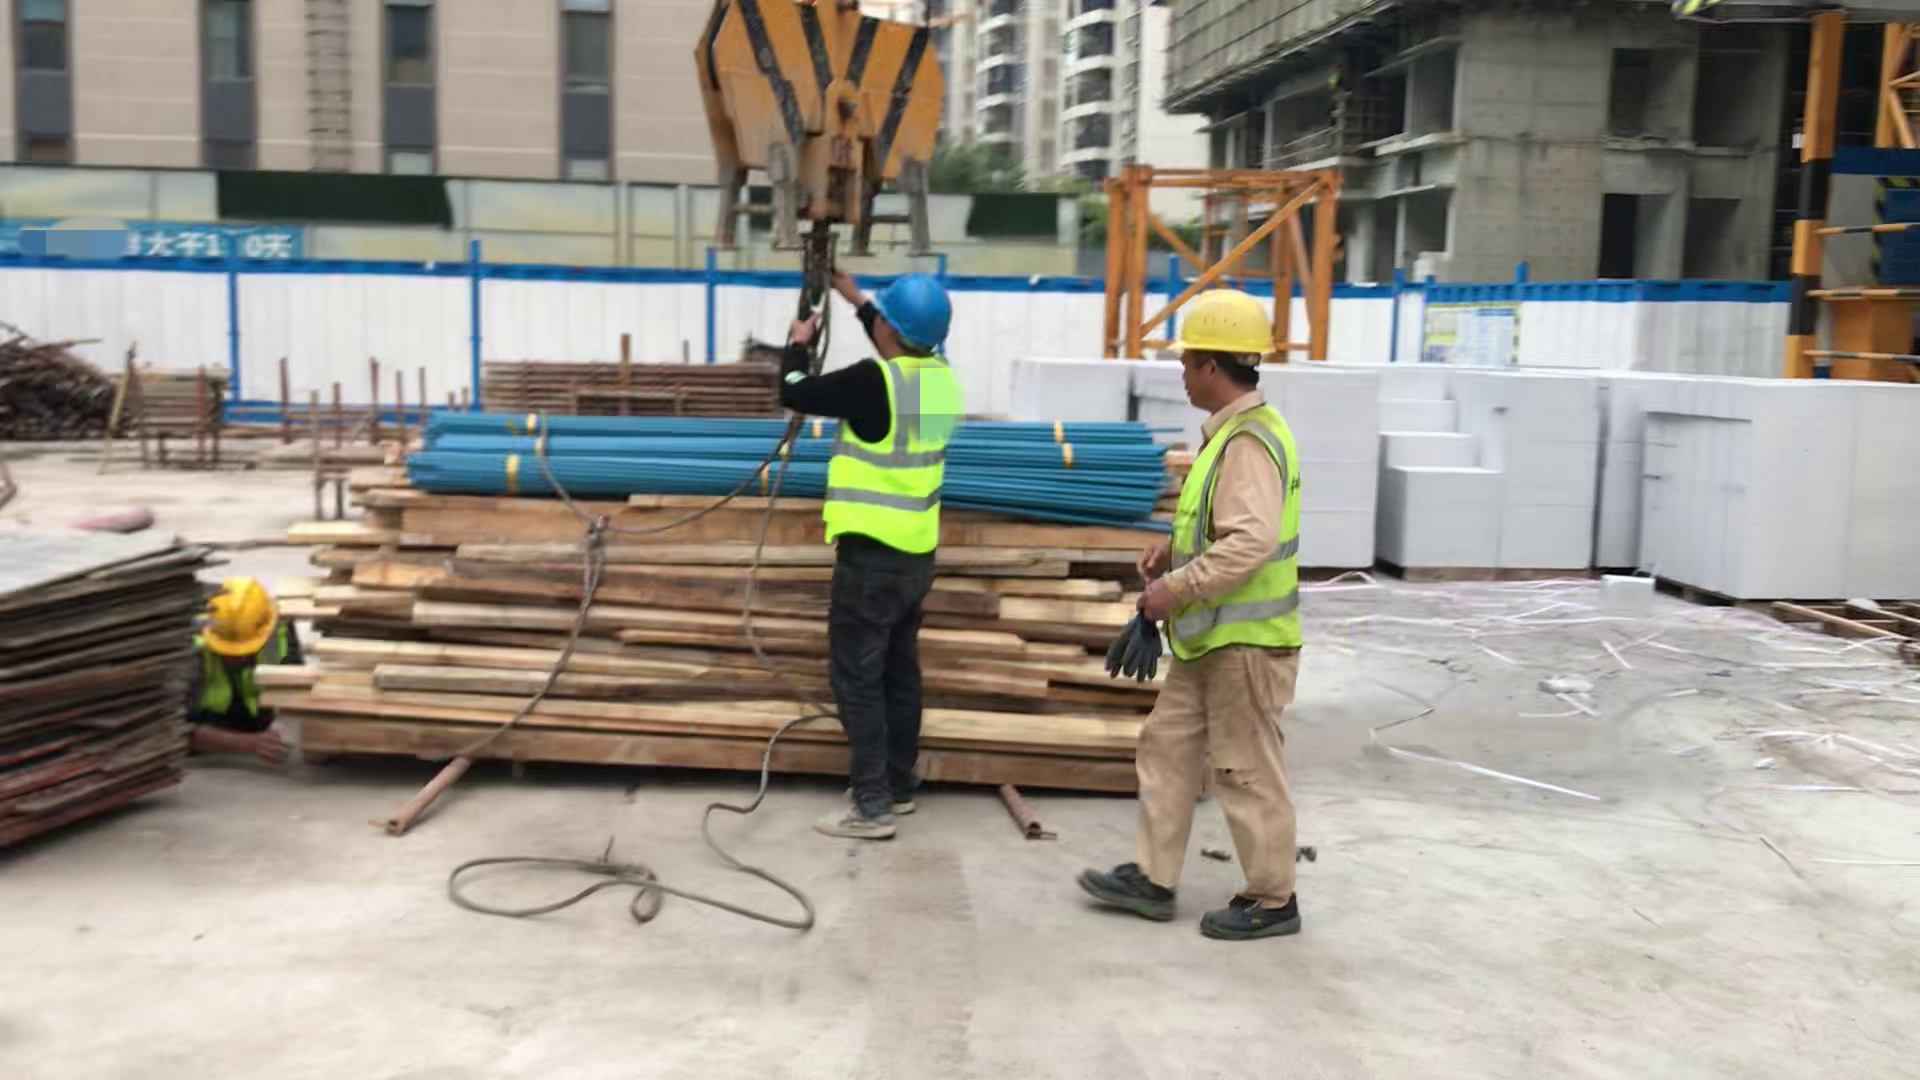board: (1, 532, 218, 850)
brick: (1289, 359, 1920, 617)
helmet: (1163, 285, 1283, 369), (863, 261, 951, 348), (203, 572, 277, 654)
hook: (670, 1, 933, 279)
person: (1136, 280, 1307, 948), (789, 264, 960, 863), (198, 570, 301, 769)
slogan: (114, 218, 300, 279)
vest: (1164, 409, 1300, 658), (829, 361, 948, 559)
wood: (314, 479, 1186, 812)
